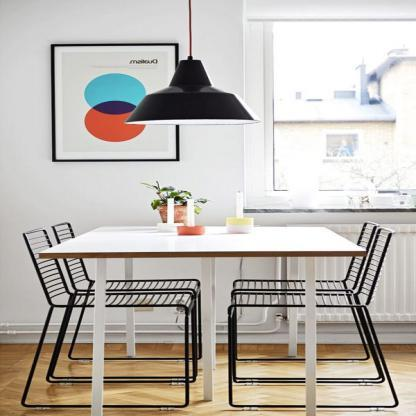chair: (14, 227, 197, 416), (220, 230, 397, 415), (42, 217, 200, 385), (230, 215, 374, 367)
